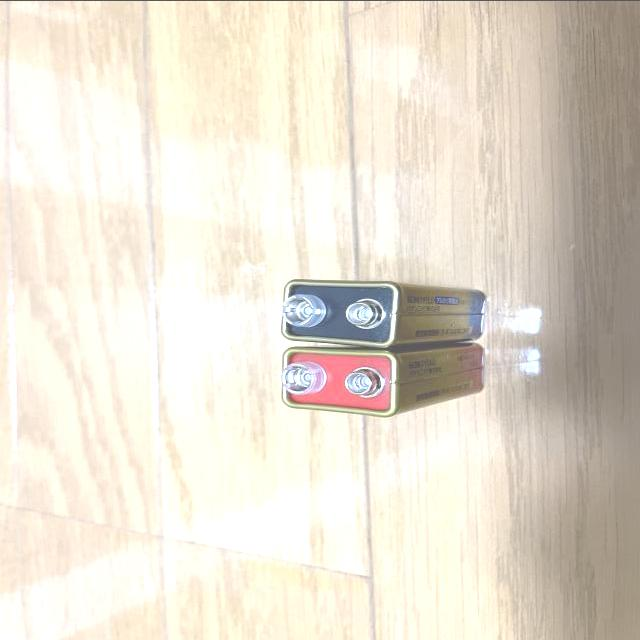9V: (280, 340, 483, 417), (281, 276, 486, 348)
